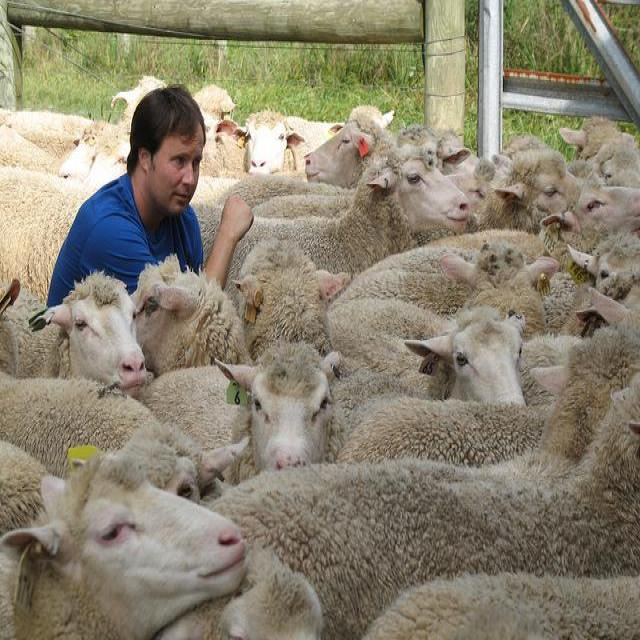Sheep: (1, 40, 639, 639), (205, 372, 639, 635), (191, 144, 469, 313), (0, 461, 250, 639), (321, 309, 528, 432), (329, 261, 557, 372), (335, 392, 558, 483), (409, 184, 639, 272), (0, 364, 156, 481), (358, 571, 639, 633), (4, 273, 151, 387), (413, 148, 581, 247), (214, 344, 333, 479), (130, 254, 254, 378), (302, 114, 403, 186), (420, 125, 489, 211)
